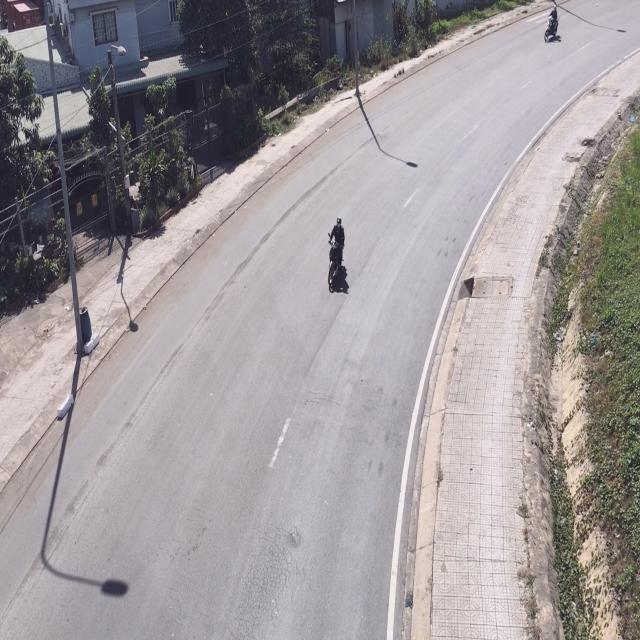motorbike: (327, 215, 350, 296), (543, 4, 562, 43)
